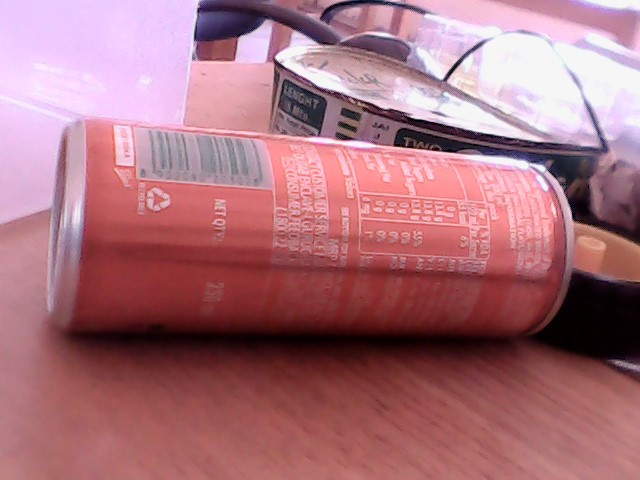Metal: (47, 103, 572, 360)
